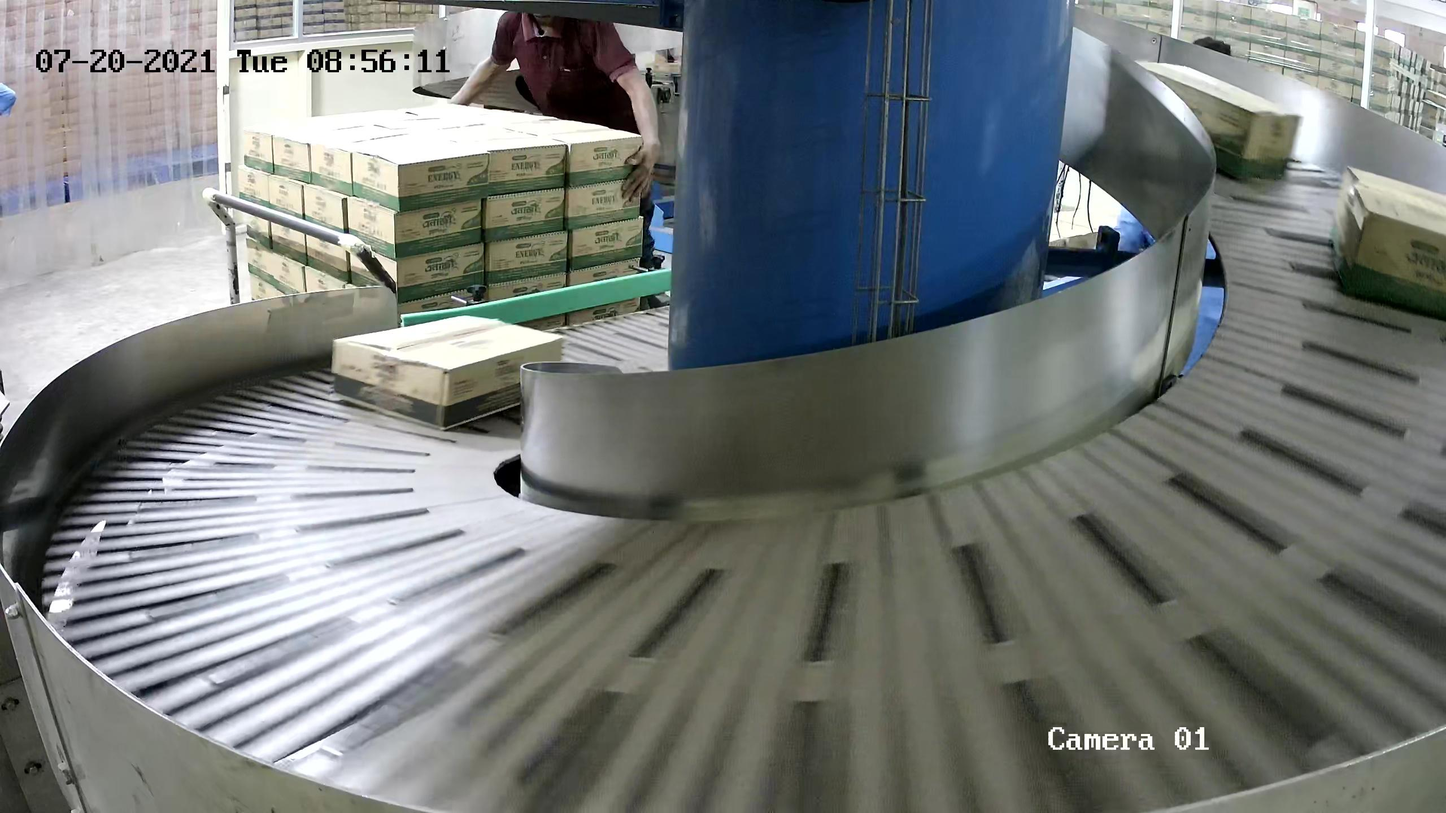Box: (328, 312, 568, 433), (1126, 56, 1302, 186), (1330, 161, 1446, 322)
